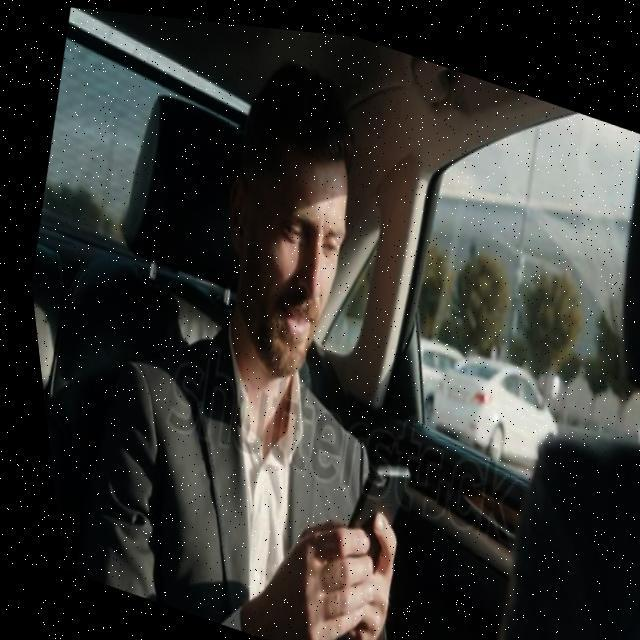PhoneCall: (308, 436, 413, 604)
